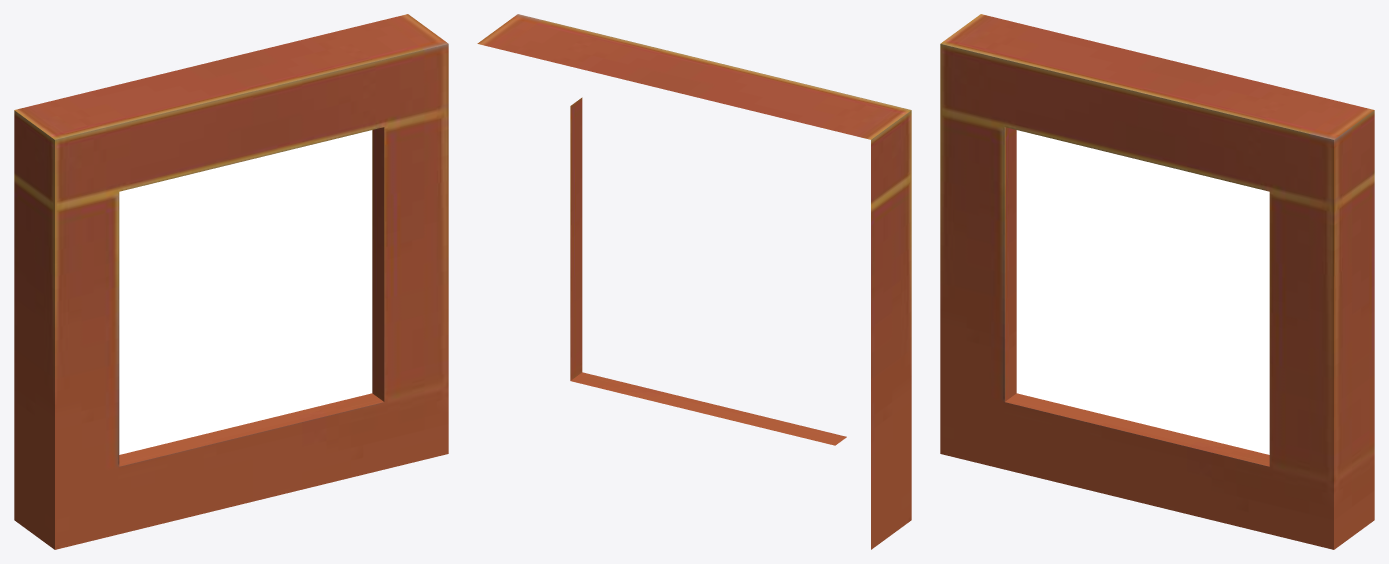
Rendered from Panel_Light.glb.
The picture shows the model from 3 angles, left to right: view 1: azimuth 30°, elevation 25°; view 2: azimuth 150°, elevation 25°; view 3: azimuth 330°, elevation 25°; orthographic projection.
Parts seen in each view (by area): view 1: Panel_Light; view 2: Panel_Light; view 3: Panel_Light.
Boxes of the visible parts, x1=… form: Panel_Light: x1=14, y1=14, x2=448, y2=549; Panel_Light: x1=477, y1=14, x2=911, y2=549; Panel_Light: x1=940, y1=14, x2=1374, y2=549.
Bounding box in the file's own units: 1.74 × 1.73 × 0.3117.
Materials: 2 (1 with a texture image).
